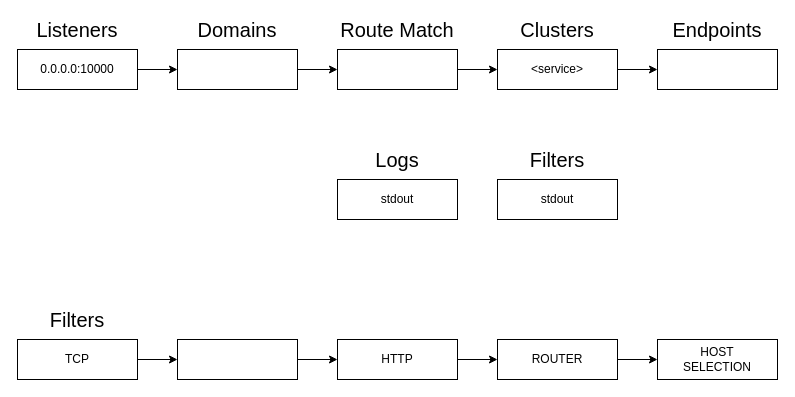
This 795x397 diagram has some shape labels left out. Here are the shapes that lost their labels. From the top down, the box of each, then its label:
(176, 48, 298, 90): system1.rwx.systems
(336, 48, 458, 90): /api
(656, 48, 778, 90): 10.0.0.X
(176, 338, 298, 380): HCM
